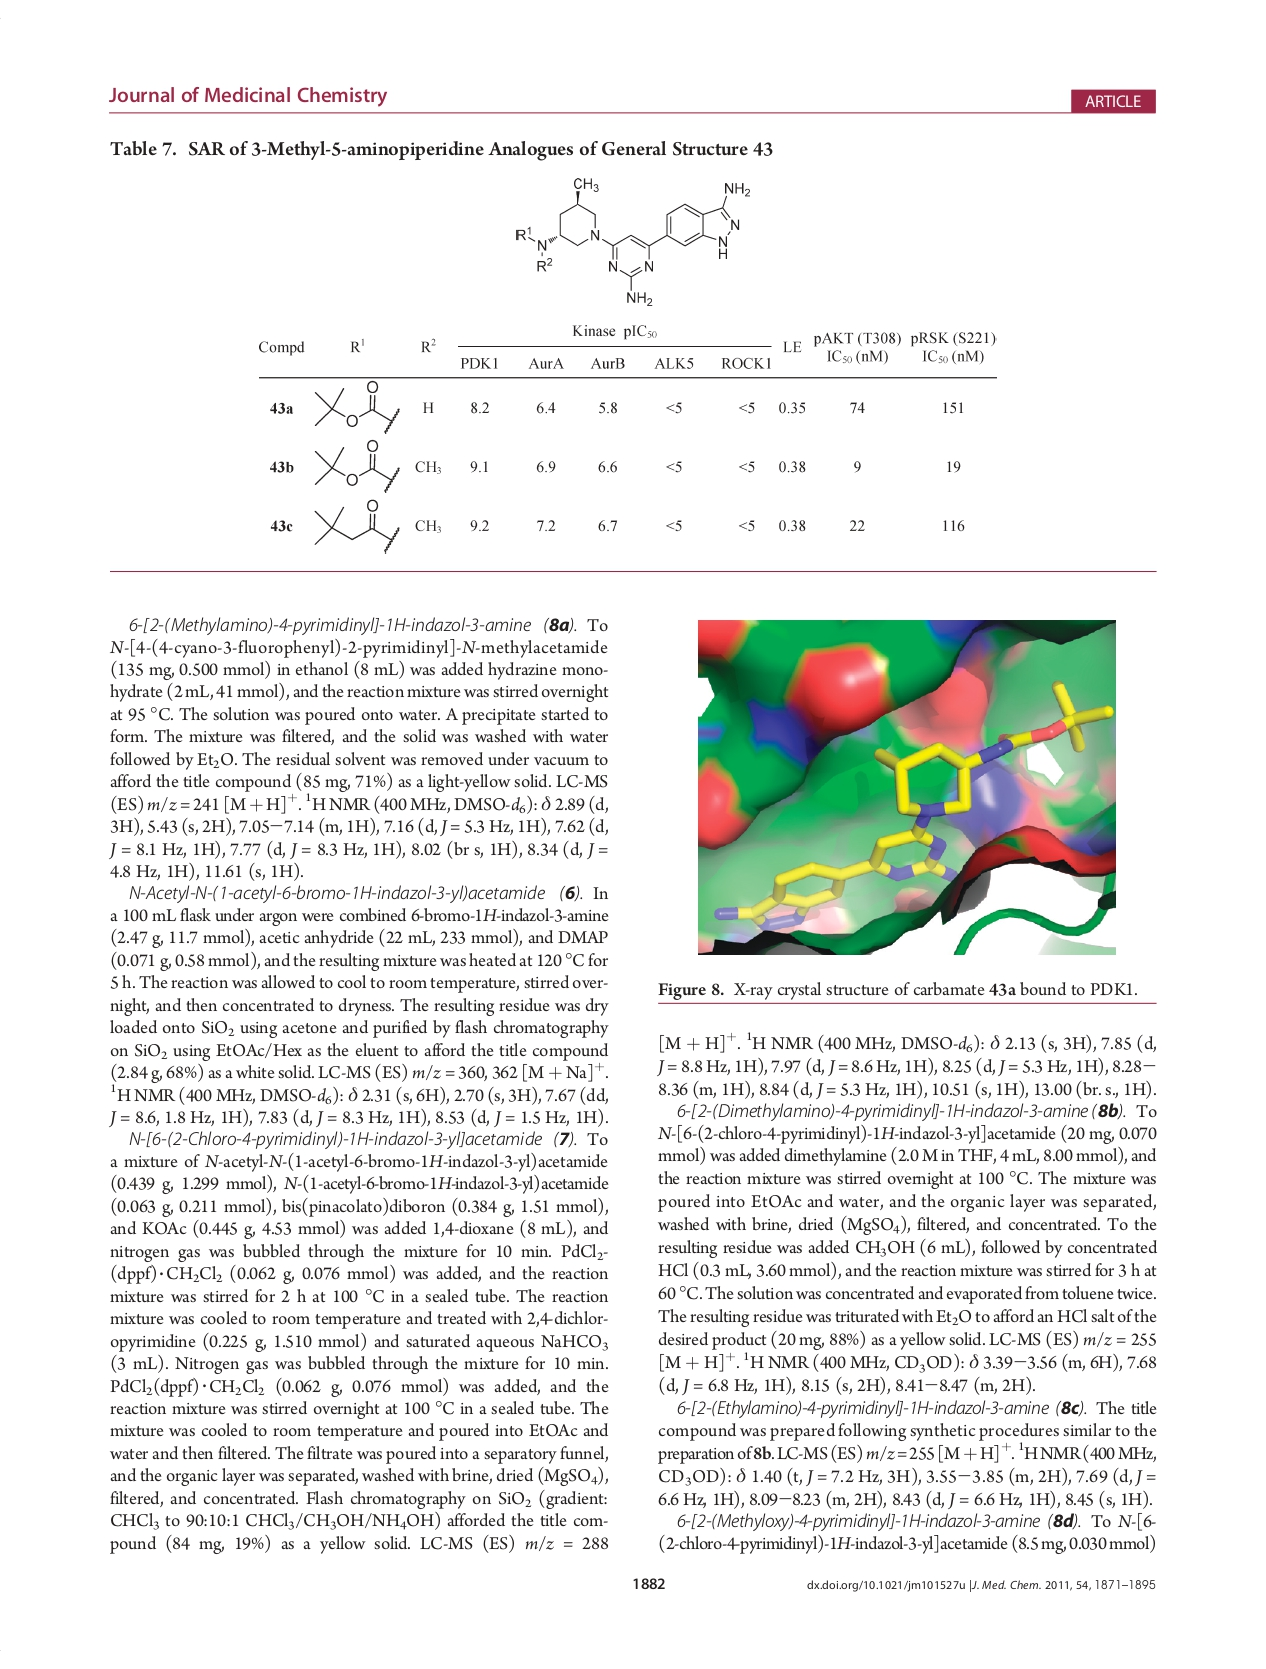exist_molecular: (512, 173, 751, 310), (309, 438, 408, 493), (311, 497, 404, 557), (311, 380, 403, 435)
